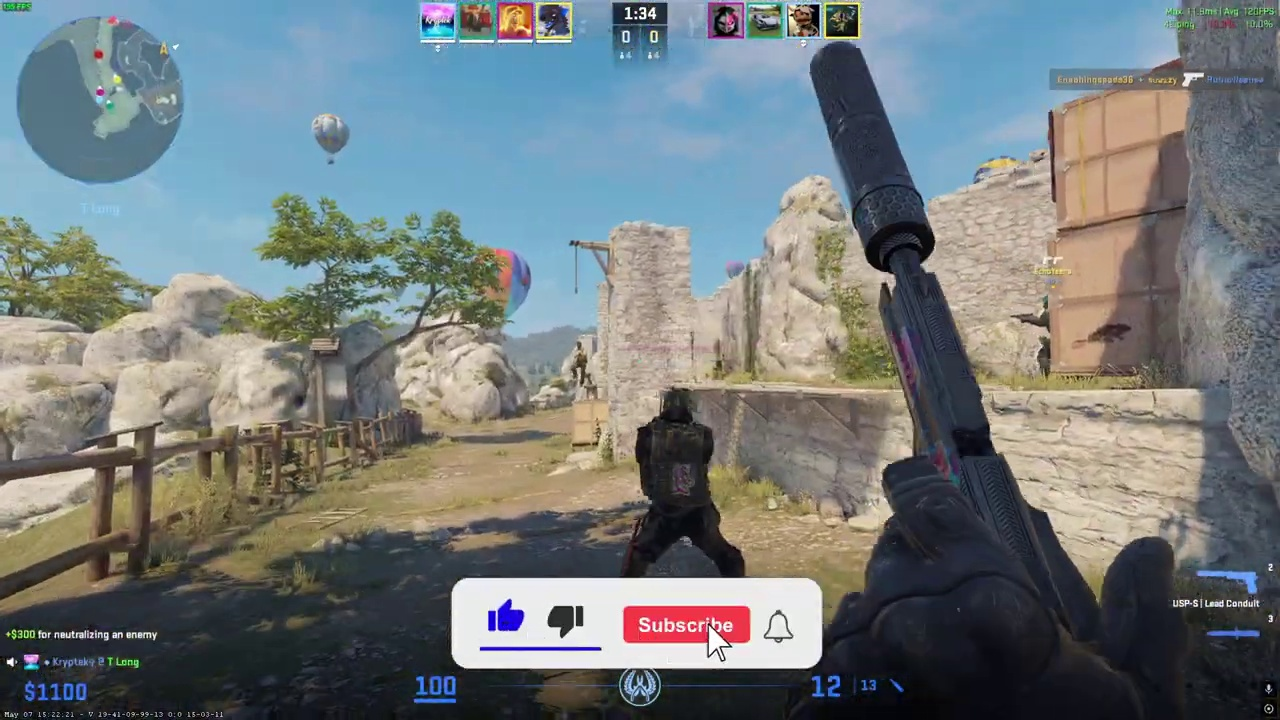CT: (628, 389, 736, 578)
Terrorist: (574, 340, 587, 384)
